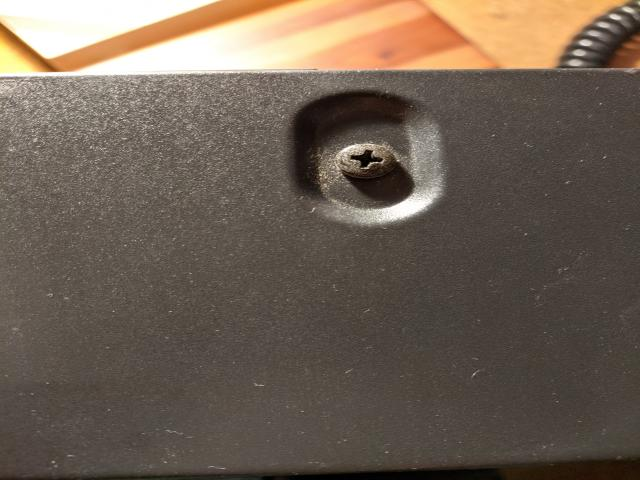CRS: (338, 143, 396, 178)
